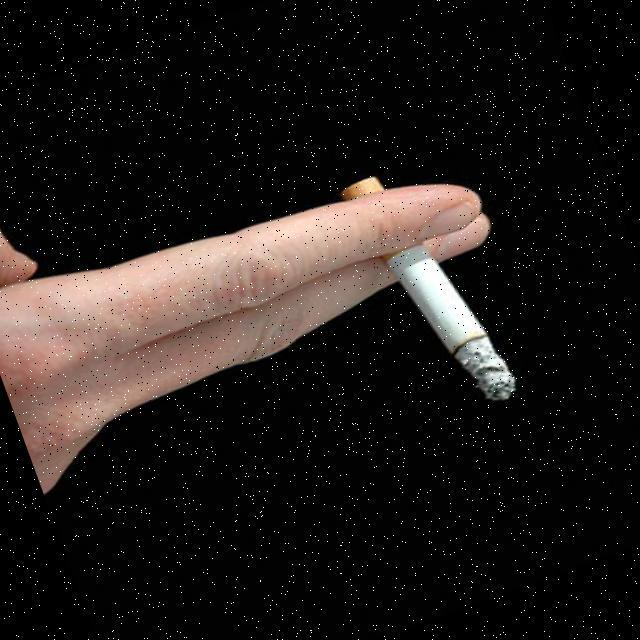cigarette: (370, 221, 526, 430)
